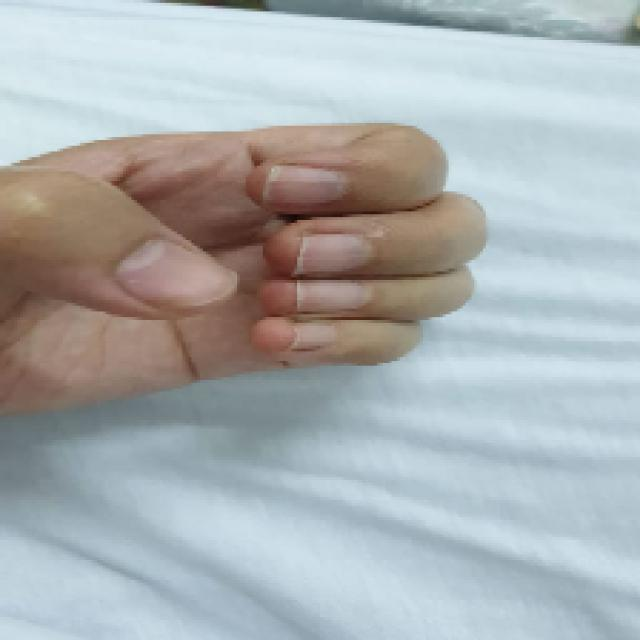Nail: (115, 239, 236, 308), (262, 165, 345, 207), (299, 234, 371, 277), (296, 280, 368, 312), (289, 321, 338, 351)
